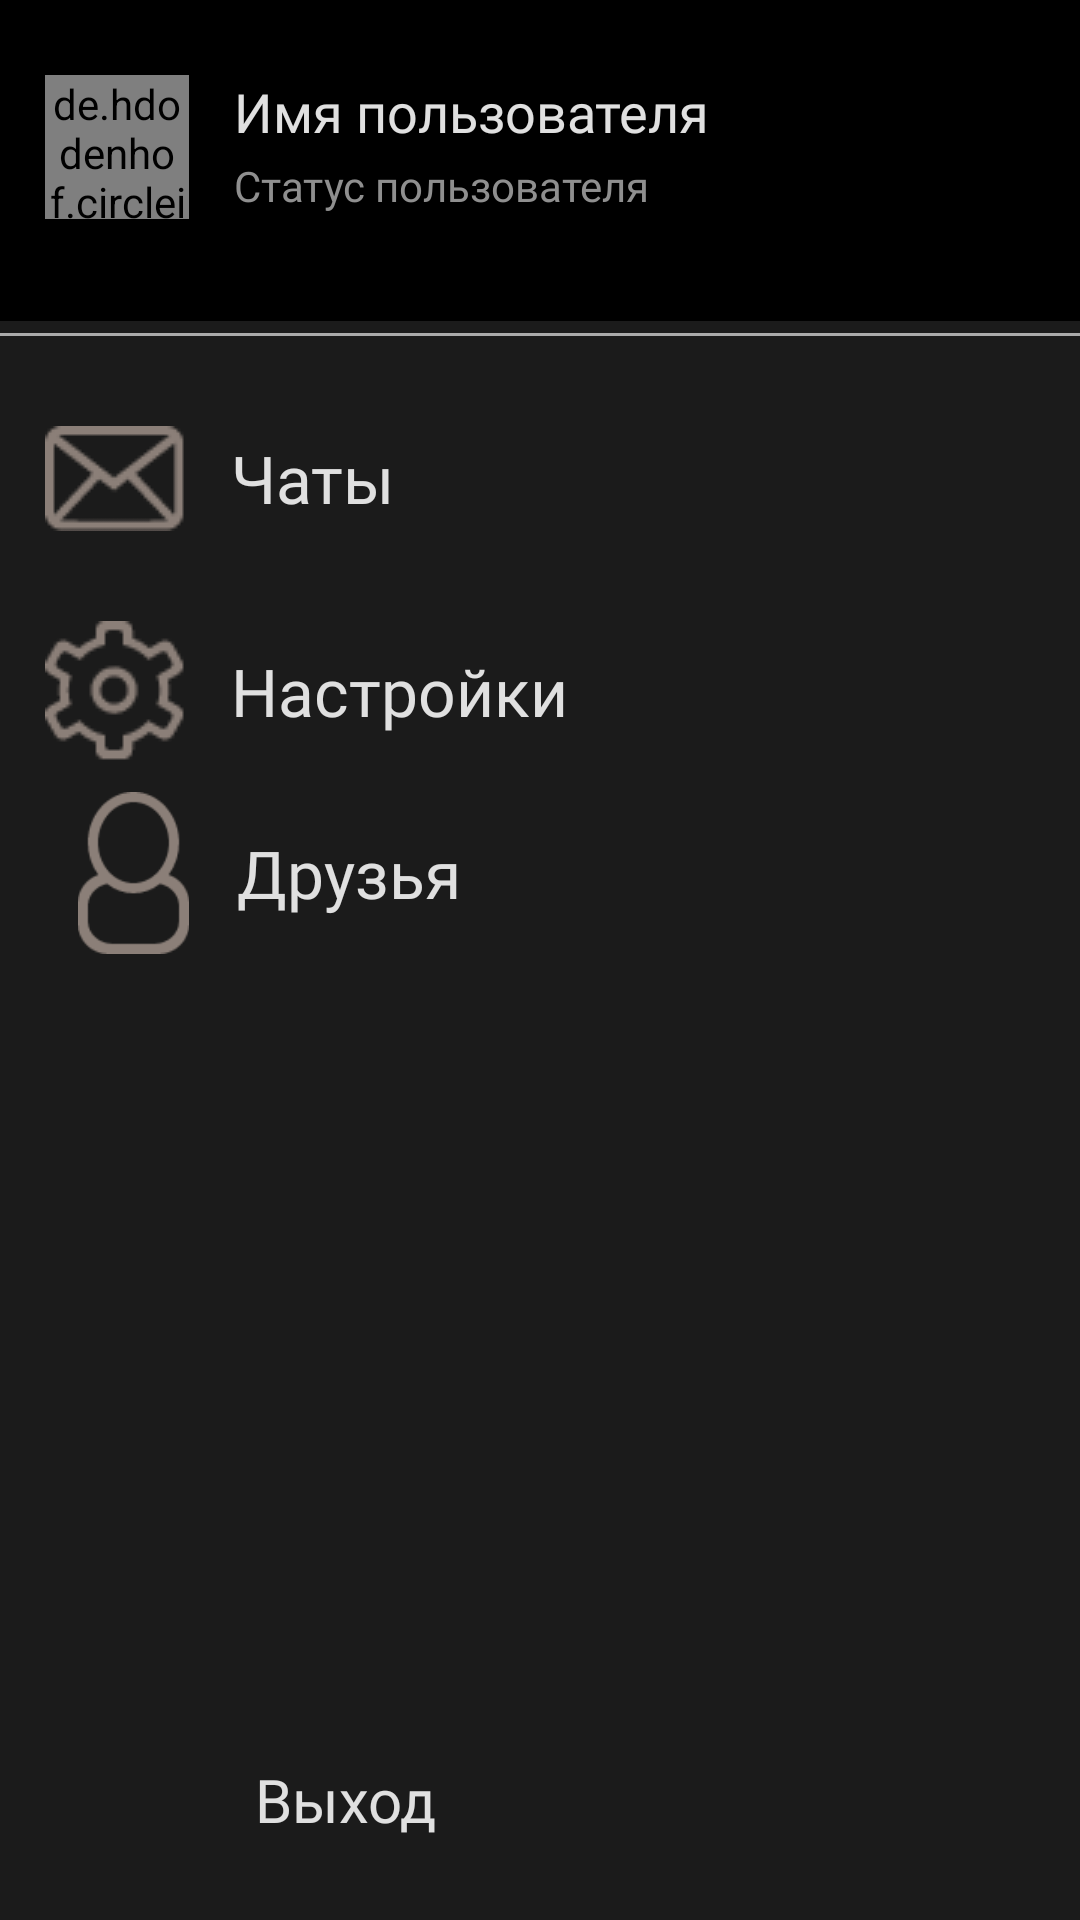

Where to tap for icons on this 1080w x 1920h app screen, as point (x, y):
friends: point (133, 873)
message: point (114, 478)
settings: point (114, 690)
